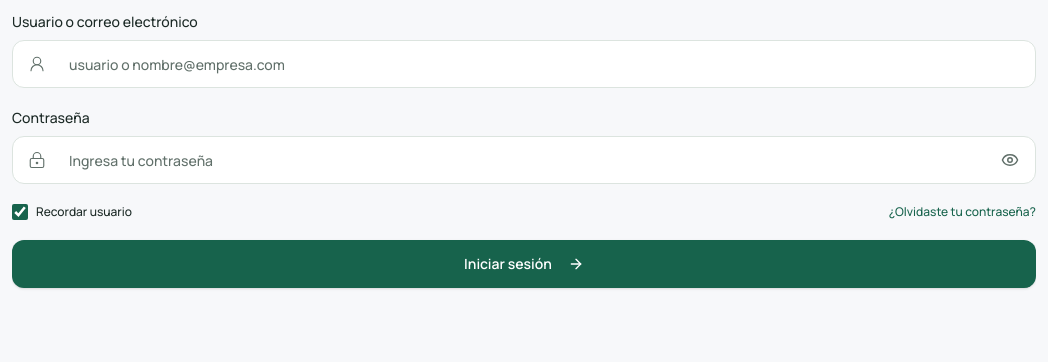
it: Formulario de acceso › muestra validaciones sin enviar credenciales vacías
The width and height of the screenshot is (1048, 362).
Click the button "Iniciar sesión" at (524, 264), box left=12, top=240, right=1036, bottom=288
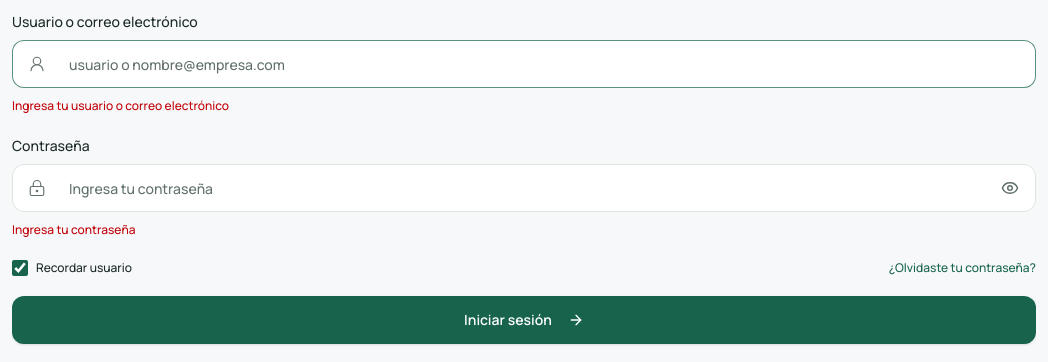
Expected: the text "Ingresa tu usuario o correo electrónico" is shown, left=12, top=97, right=229, bottom=114
Expected: the text "Ingresa tu contraseña" is shown, left=12, top=221, right=135, bottom=238
